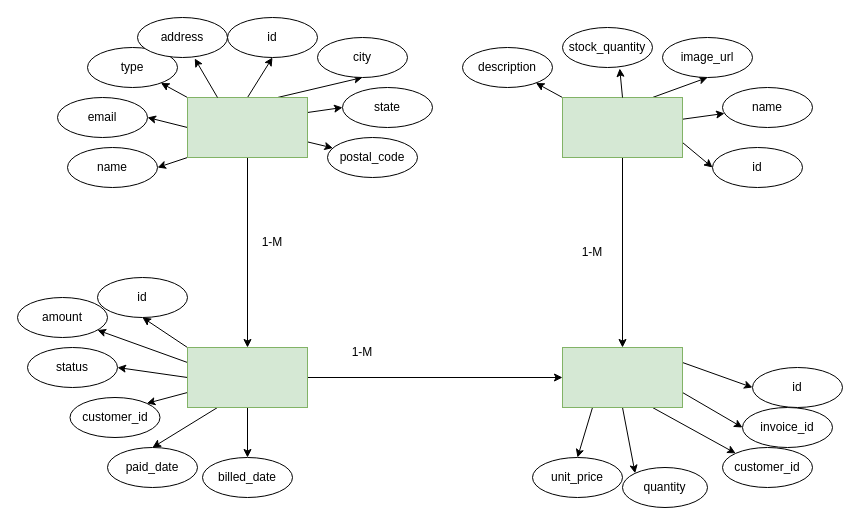
This 860x525 diagram has some shape labels left out. Each missing label, with the centre of its shape:
"customers" goes at point (247, 127).
"invoice_items" goes at point (622, 377).
"invoices" goes at point (247, 377).
"products" goes at point (622, 127).
